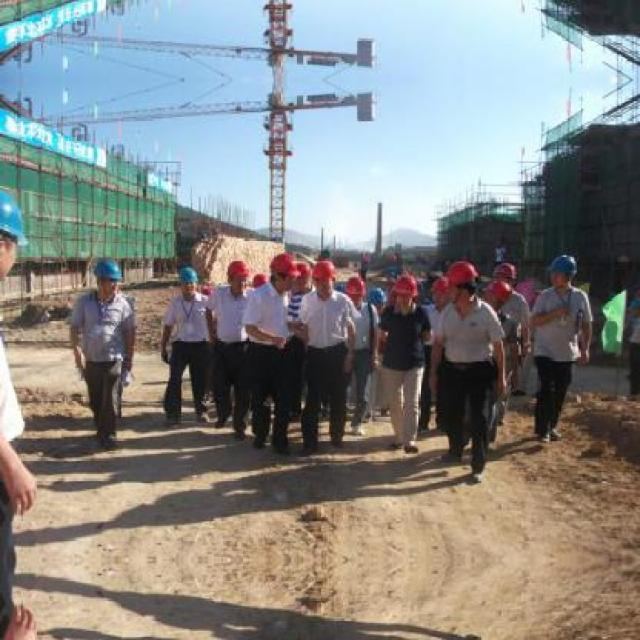helmet: (1, 188, 30, 286), (89, 254, 123, 300), (450, 262, 479, 307), (483, 279, 514, 318), (268, 249, 298, 289), (547, 252, 576, 292), (223, 259, 251, 298), (311, 257, 335, 297), (391, 275, 418, 310), (429, 277, 454, 311), (342, 274, 366, 308), (292, 262, 314, 298), (492, 262, 518, 292), (366, 284, 388, 319), (177, 264, 198, 298)
